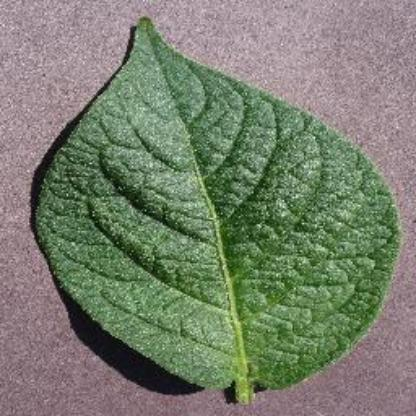Healthy-plant: (30, 13, 404, 397)
